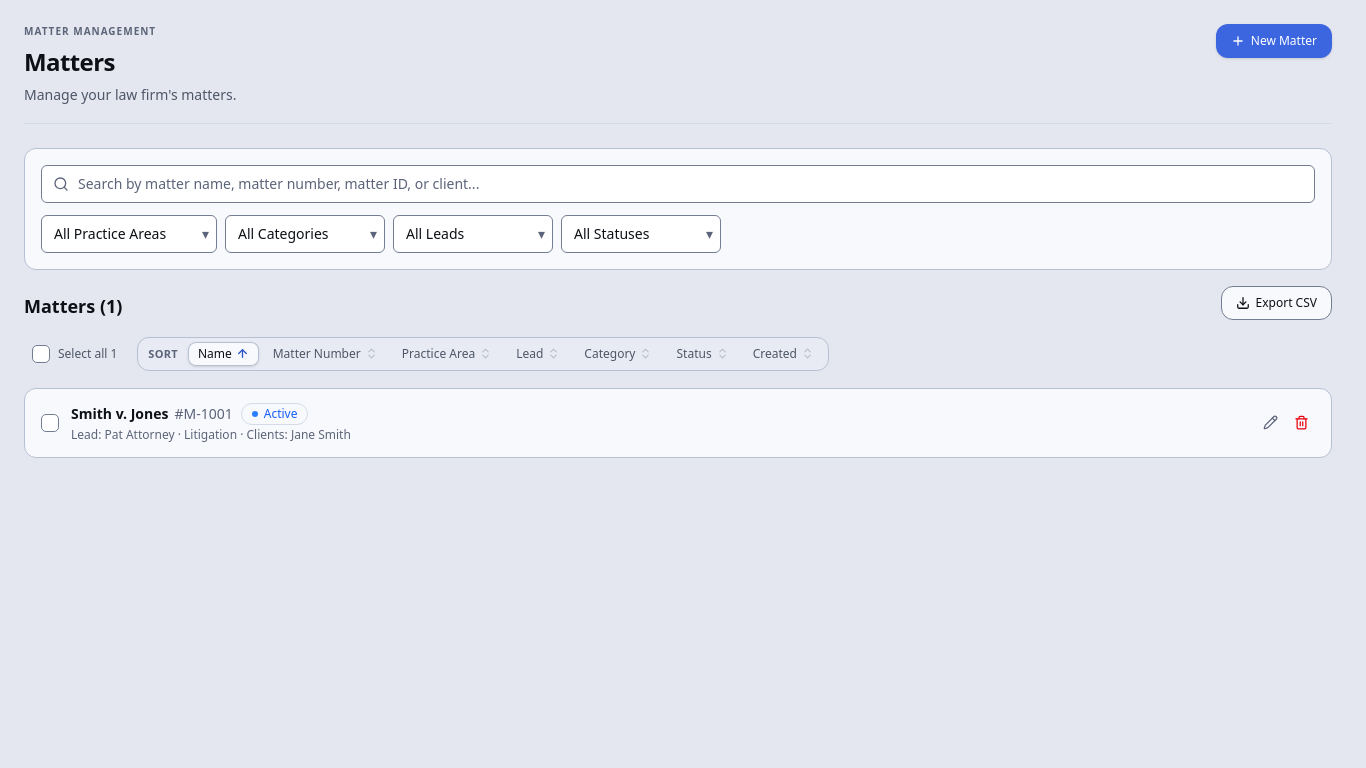
Test: a refused action: the delete fails › tells the user the matter was not deleted, and leaves it in the list
Expected: the text "Smith v. Jones" is shown, top-left (71, 404), bottom-right (168, 423)
Click the button named "Delete" at (1302, 423), box top-left (1288, 409), bottom-right (1315, 436)
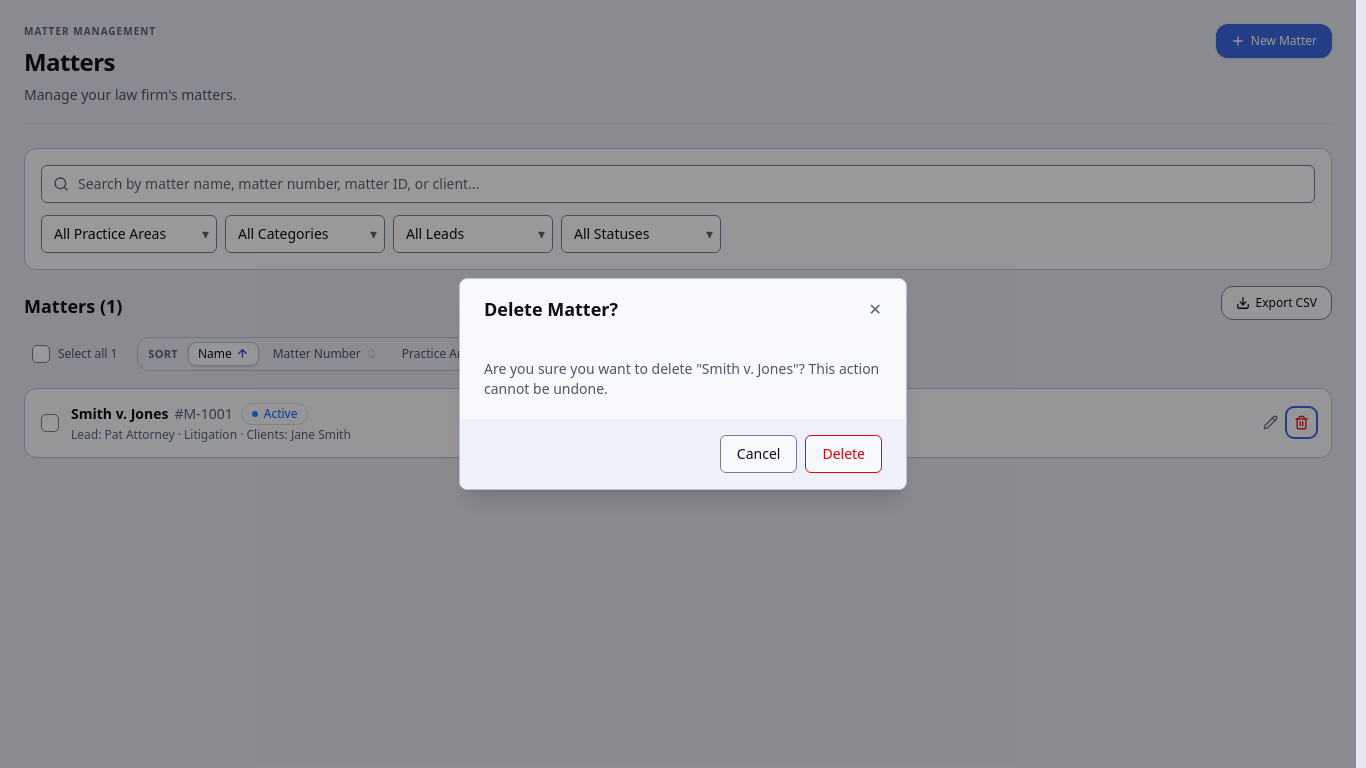
Click the button "Delete" at (844, 454), box top-left (805, 435), bottom-right (882, 473)
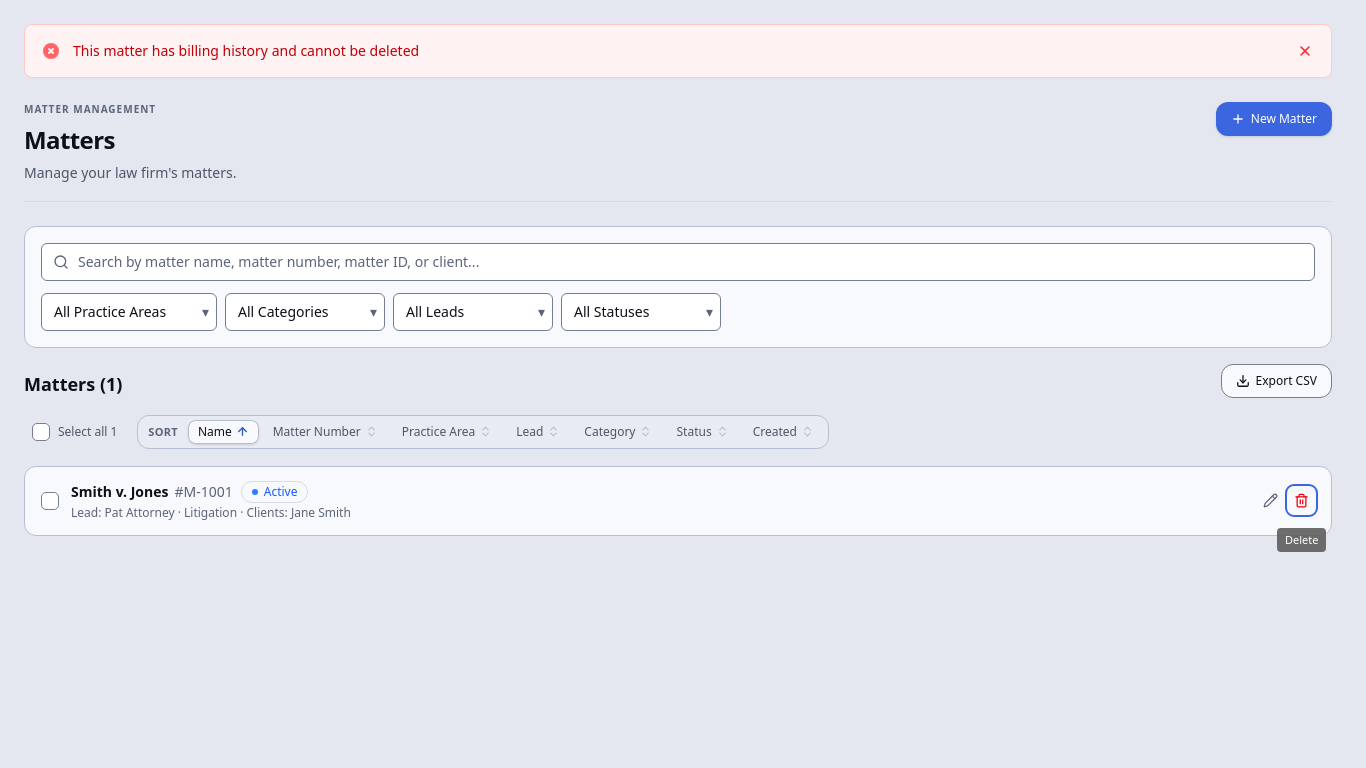
Expected: the text "Smith v. Jones" is shown, top-left (71, 482), bottom-right (168, 501)
Now the text "This matter has billing history and cannot be deleted" is shown, box top-left (73, 41), bottom-right (419, 60)
